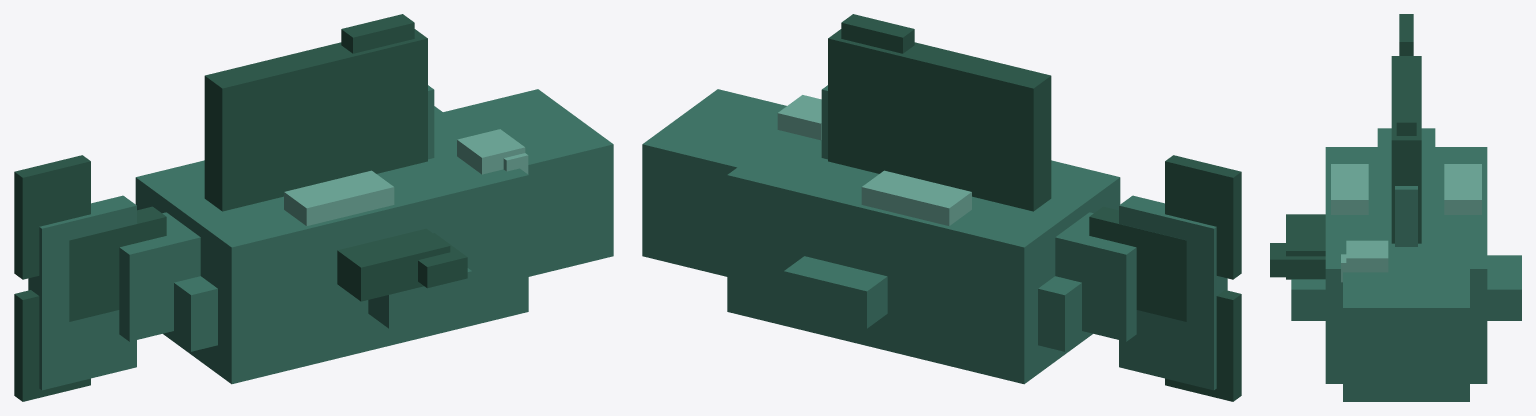
The model's file is fish_tide_bass.glb.
3 views of the same model, side by side, from view 1: azimuth 30°, elevation 25°; view 2: azimuth 150°, elevation 25°; view 3: azimuth 270°, elevation 25° (orthographic). The views are drawn at different scales.
Visible parts, largest first — view 1: FishArt_body, FishArt_dorsal, FishArt_tail, FishArt_pectoral, FishArt_specialty, FishArt_eye; view 2: FishArt_body, FishArt_dorsal, FishArt_tail, FishArt_specialty, FishArt_eye; view 3: FishArt_body, FishArt_dorsal, FishArt_specialty, FishArt_pectoral, FishArt_eye, FishArt_tail.
Boxes of the visible parts, left/top/right/bottom form: FishArt_body: left=28, top=85, right=613, bottom=390; FishArt_dorsal: left=204, top=14, right=427, bottom=211; FishArt_tail: left=14, top=155, right=166, bottom=401; FishArt_pectoral: left=337, top=228, right=467, bottom=301; FishArt_specialty: left=284, top=170, right=394, bottom=225; FishArt_eye: left=457, top=129, right=528, bottom=174; FishArt_body: left=642, top=85, right=1227, bottom=390; FishArt_dorsal: left=828, top=14, right=1051, bottom=211; FishArt_tail: left=1089, top=155, right=1241, bottom=401; FishArt_specialty: left=861, top=170, right=971, bottom=225; FishArt_eye: left=777, top=95, right=821, bottom=140; FishArt_body: left=1291, top=128, right=1521, bottom=401; FishArt_dorsal: left=1391, top=56, right=1421, bottom=243; FishArt_specialty: left=1331, top=164, right=1481, bottom=214; FishArt_pectoral: left=1270, top=214, right=1325, bottom=279; FishArt_eye: left=1341, top=240, right=1388, bottom=282; FishArt_tail: left=1399, top=14, right=1413, bottom=55.
Bounding box in the file's own units: 0.3091 × 0.1513 × 0.1439.
